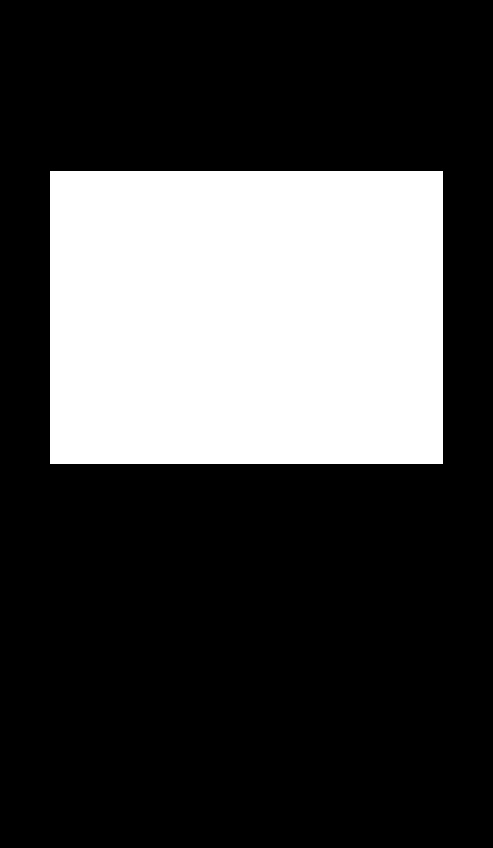table: (50, 171, 442, 463)
